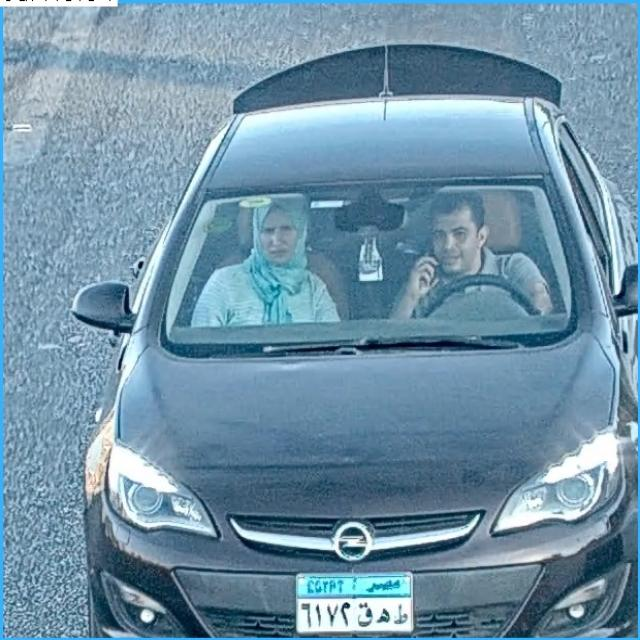windshield: (161, 195, 573, 343)
